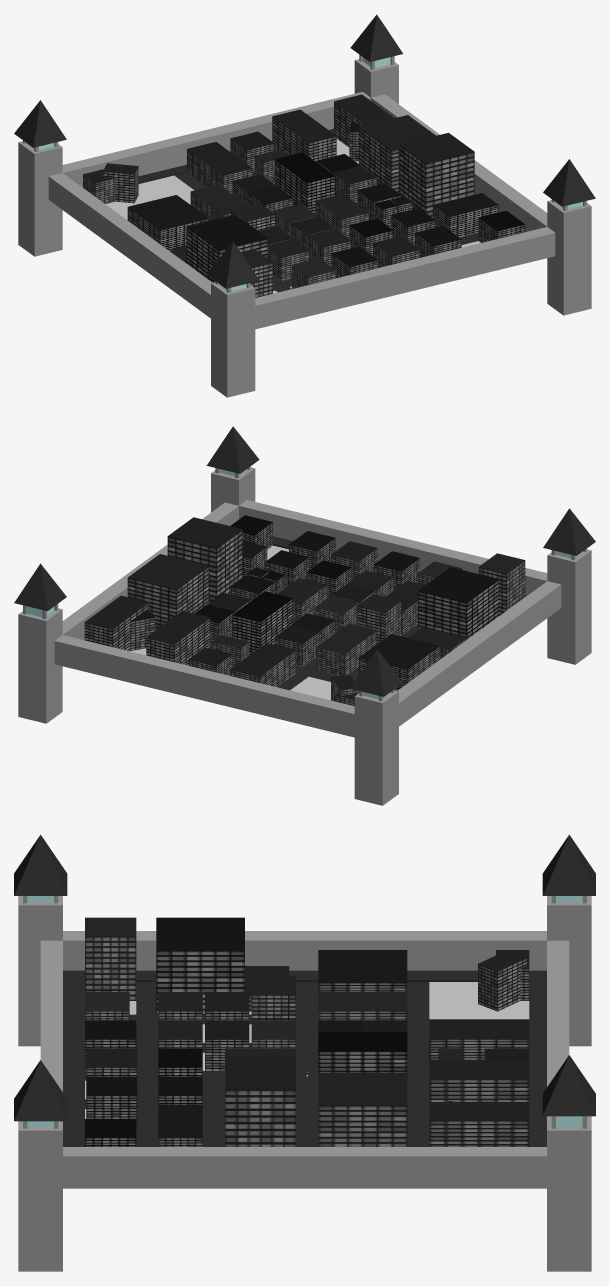
The model's file is itsgroundtime.fbx.
The picture shows the model from 3 angles, top to bottom: view 1: azimuth 30°, elevation 25°; view 2: azimuth 150°, elevation 25°; view 3: azimuth 270°, elevation 25°; orthographic projection. The views are drawn at different scales.
Parts seen in each view (by area): view 1: Cube.021, Cube.023, Cube.022, Cube.030, Cube.060, Cube.061, Cube.059, Cube.025, Cube.028, Cube.024, Cube.027, Cube.040 (+34 smaller); view 2: Cube.022, Cube.023, Cube.021, Cube.059, Cube.028, Cube.058, Cube.060, Cube.025, Cube.030, Cube.040, Cube.054, Cube.027 (+33 smaller); view 3: Cube.024, Cube.023, Cube.028, Cube.025, Cube.058, Cube.061, Cube.030, Cube.055, Cube.059, Cube.060, Cube.054, Cube.047 (+43 smaller).
Part boxes in pixels (x1,y1,x2,y2): Cube.021: (255, 227, 555, 329); Cube.023: (48, 173, 212, 318); Cube.022: (62, 92, 370, 187); Cube.030: (399, 132, 474, 217); Cube.060: (211, 282, 255, 397); Cube.061: (547, 200, 591, 315); Cube.059: (18, 141, 62, 256); Cube.025: (359, 115, 435, 193); Cube.028: (186, 214, 267, 282); Cube.024: (371, 94, 547, 231); Cube.027: (127, 195, 208, 251); Cube.040: (274, 152, 335, 213); Cube.022: (54, 635, 354, 737); Cube.023: (397, 581, 561, 726); Cube.021: (239, 500, 547, 596); Cube.059: (354, 690, 398, 805); Cube.028: (418, 567, 499, 639); Cube.058: (18, 608, 62, 723); Cube.060: (547, 549, 591, 664); Cube.025: (127, 554, 208, 630); Cube.030: (167, 517, 242, 602); Cube.040: (232, 591, 292, 654); Cube.054: (146, 610, 210, 665); Cube.027: (359, 634, 440, 690); Cube.024: (63, 1147, 546, 1188); Cube.023: (63, 931, 546, 970); Cube.028: (156, 917, 244, 1014); Cube.025: (318, 1072, 407, 1146); Cube.058: (547, 1116, 591, 1271); Cube.061: (18, 1121, 62, 1271); Cube.030: (225, 1056, 295, 1146); Cube.055: (429, 1102, 529, 1146); Cube.059: (547, 896, 591, 1046); Cube.060: (18, 896, 62, 1046); Cube.054: (429, 1060, 529, 1101); Cube.047: (85, 917, 136, 1000).
Bounding box in the file's own units: 26400 × 10300 × 26200.
